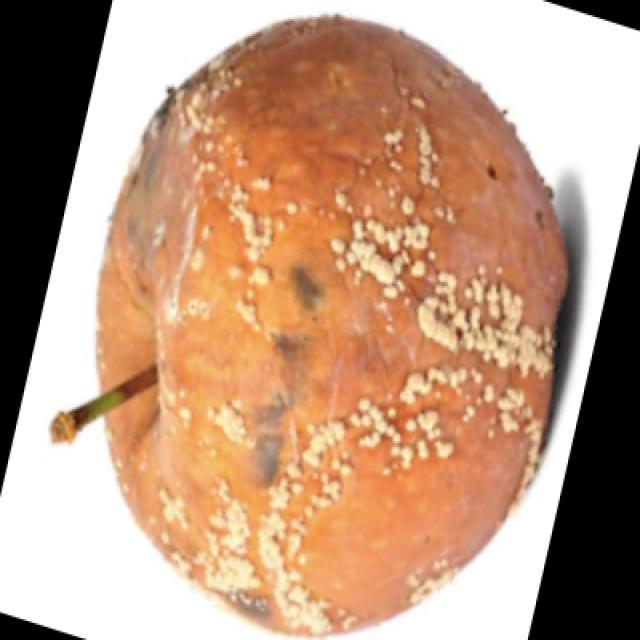Rotten: (115, 25, 552, 640)
